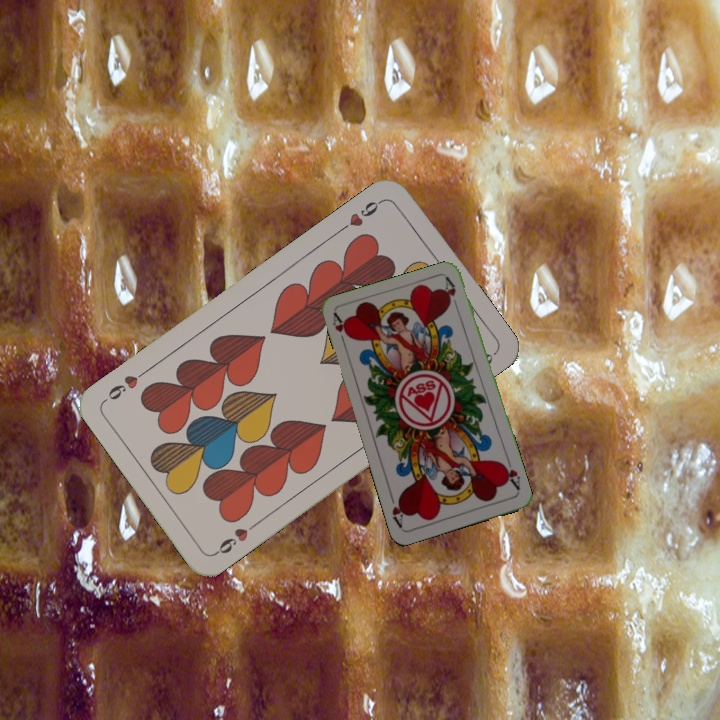H9: (210, 517, 261, 558), (335, 195, 387, 235)
HA: (498, 454, 523, 493), (329, 310, 353, 350)
